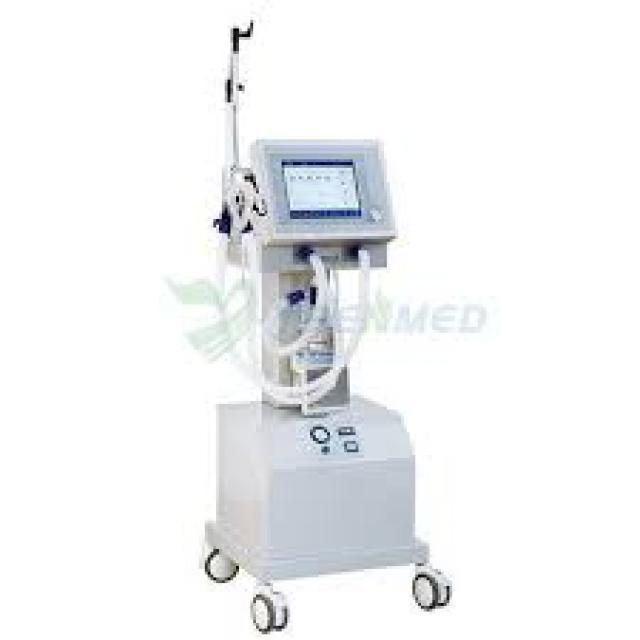ventilator: (136, 15, 506, 619)
